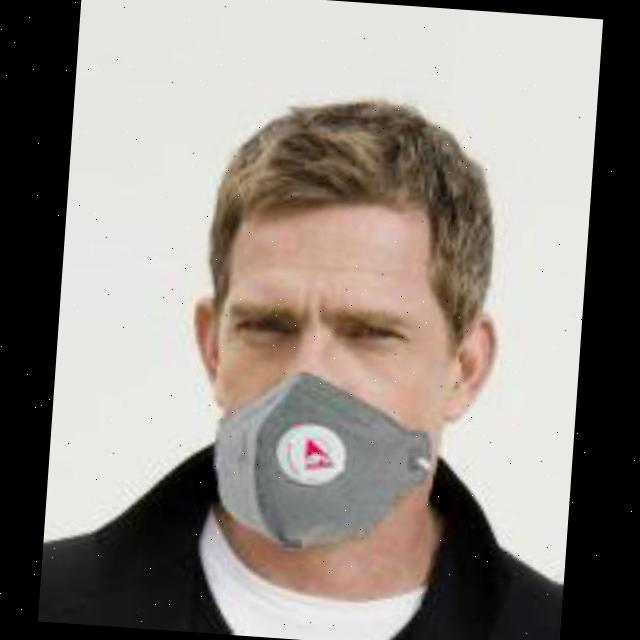suspicion: (167, 102, 482, 552)
